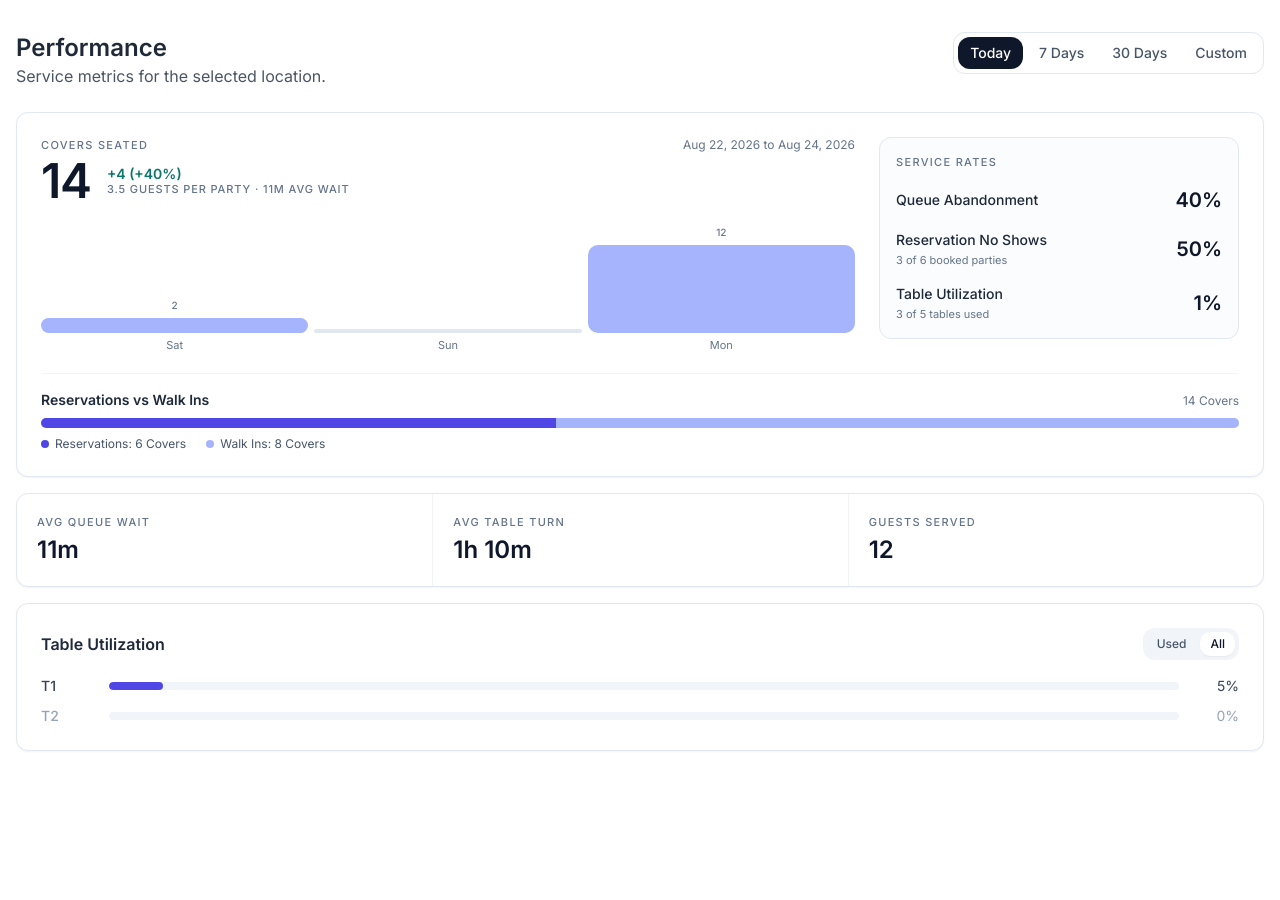
it: the custom range dialog › leaves the active range alone when cancelled
The width and height of the screenshot is (1280, 900).
Expected: the text "14" is shown, x1=41 y1=157 x2=91 y2=205
Click the button with test id "perf-preset-custom". click: point(1221, 53)
box: x1=1183 y1=37 x2=1259 y2=69
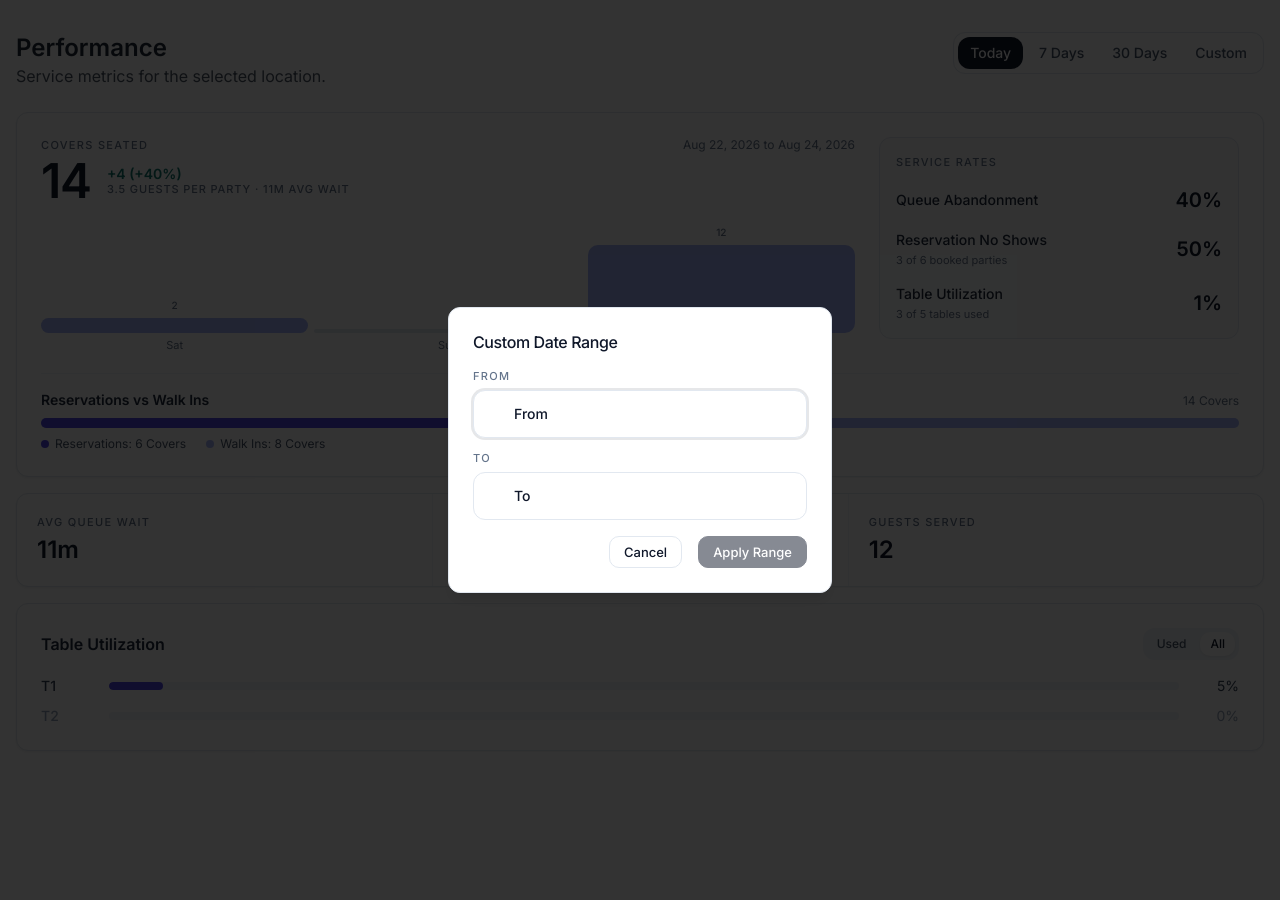
Click the button "Cancel". click: point(646, 552)
box: x1=609 y1=536 x2=682 y2=568
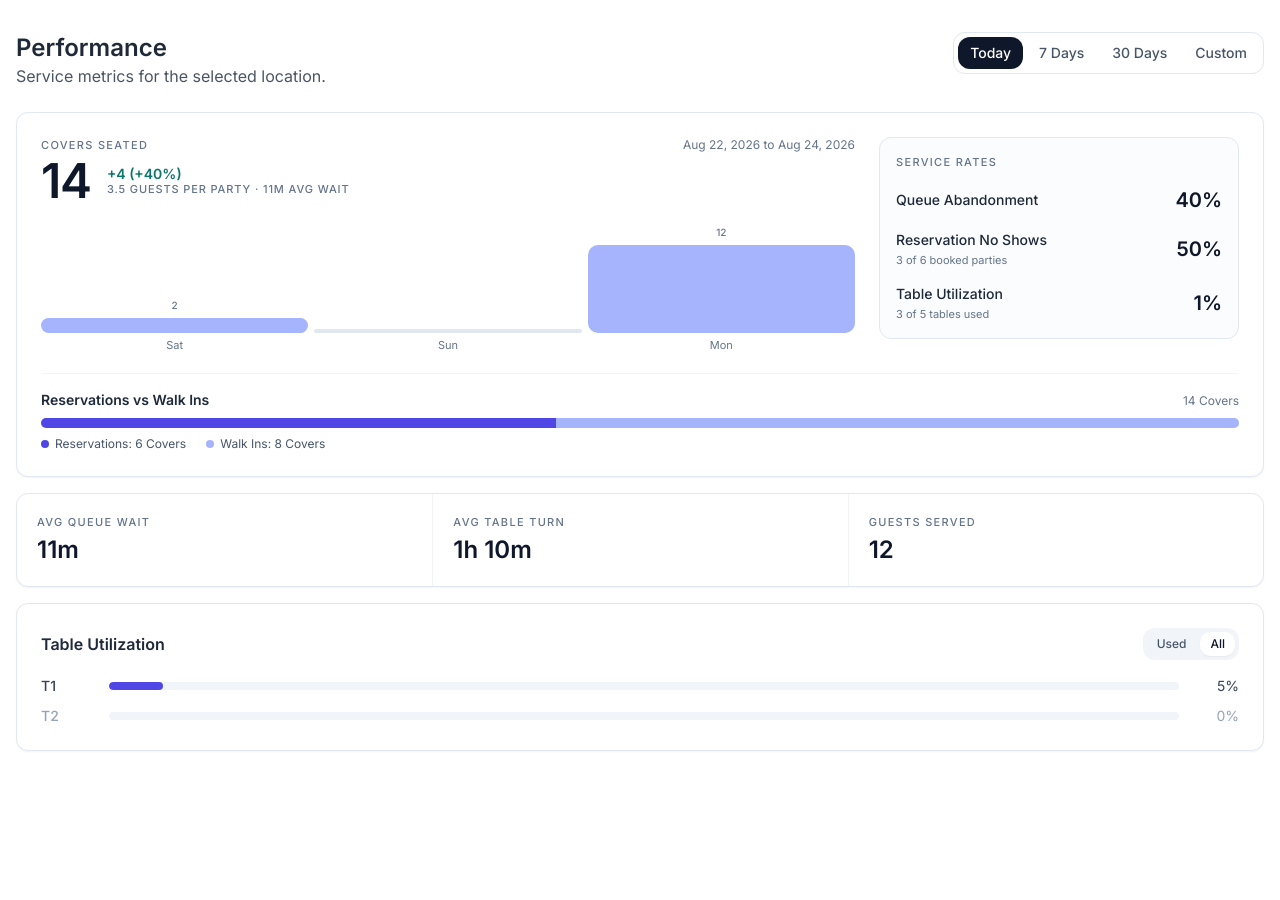
Result: the dialog with test id "perf-custom-dialog" is gone
